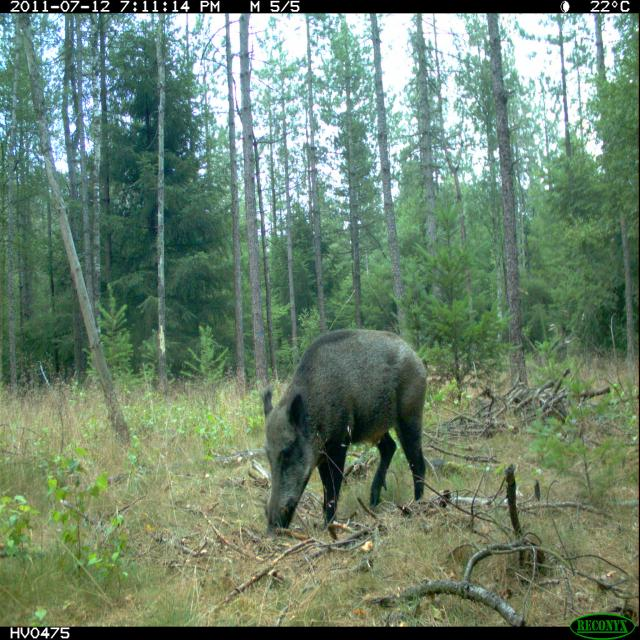boar: (244, 300, 455, 562)
